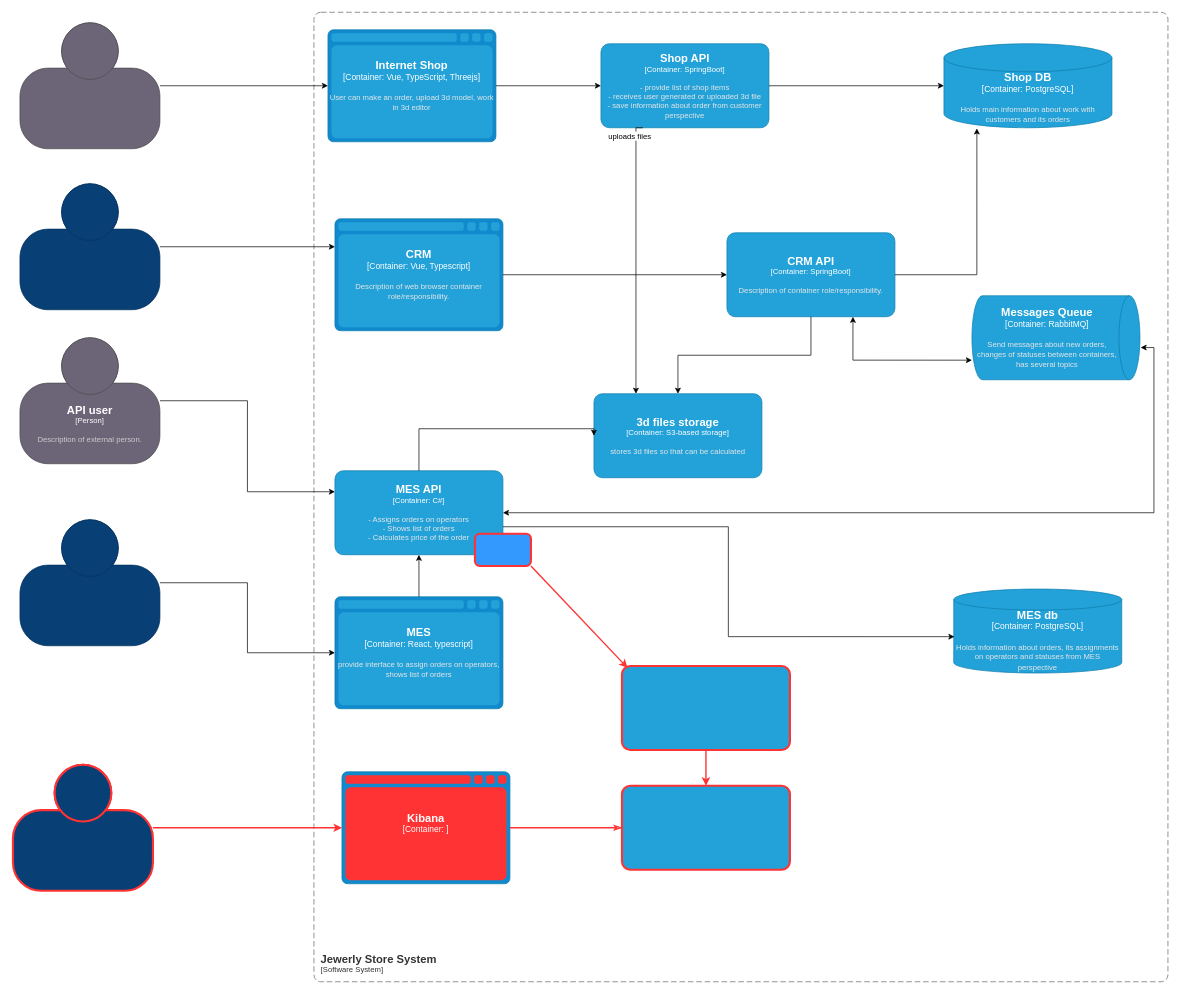
This 1180x994 diagram has some shape labels left out. Here are the shapes that lost their labels. From the top down, the centre of each, then its label:
point 89,85: Customer [Person] Description of external person.
point 89,246: Seller [Person] Operates with order, confirms manufacturing for the user
point 503,549: Filebit
point 89,582: Operator [Person] Takes order in work, manufactures jewerly
point 706,708: Logstash [Container: ]
point 83,827: SRE [Person]
point 706,827: ElasticSearch [Container: ]
